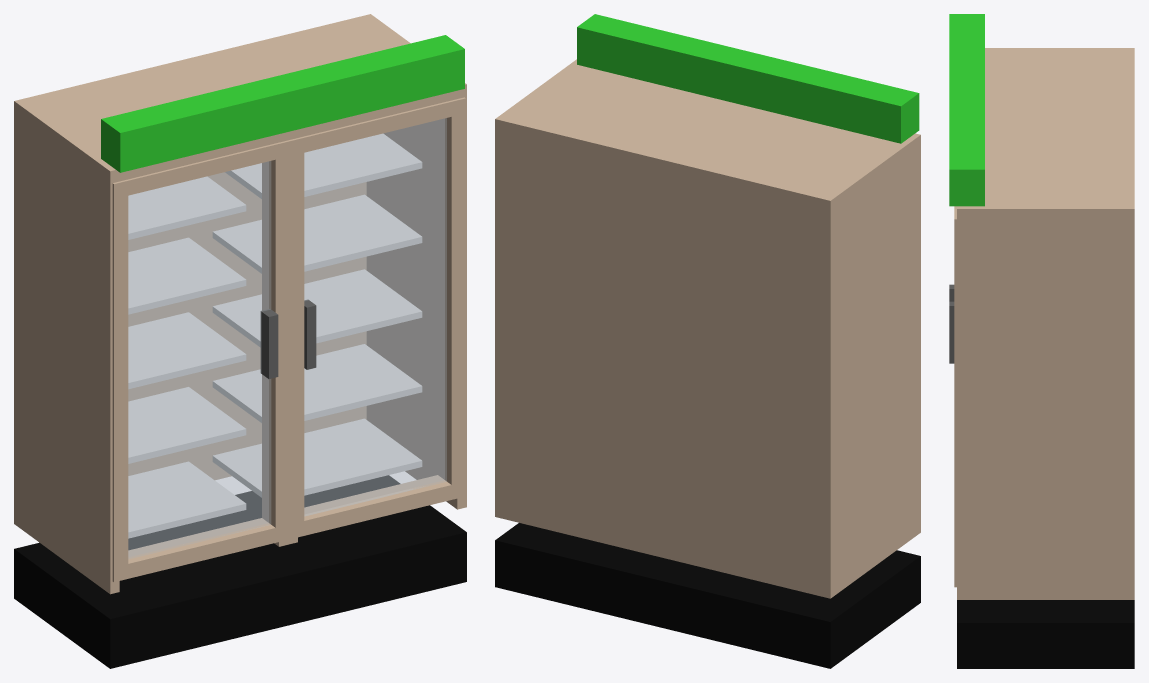
Rendered from freezer.obj.
The picture shows the model from 3 angles, left to right: view 1: azimuth 30°, elevation 25°; view 2: azimuth 150°, elevation 25°; view 3: azimuth 270°, elevation 25°; orthographic projection. The views are drawn at different scales.
Visible parts, largest first — view 1: Commercial_Freezer_Final; view 2: Commercial_Freezer_Final; view 3: Commercial_Freezer_Final.
Boxes of the visible parts, x1,y1,x2,y2 form: Commercial_Freezer_Final: (14,14,466,668); Commercial_Freezer_Final: (495,14,920,668); Commercial_Freezer_Final: (949,14,1134,668).
Bounding box in the file's own units: 1.5 × 2.16 × 0.73.
